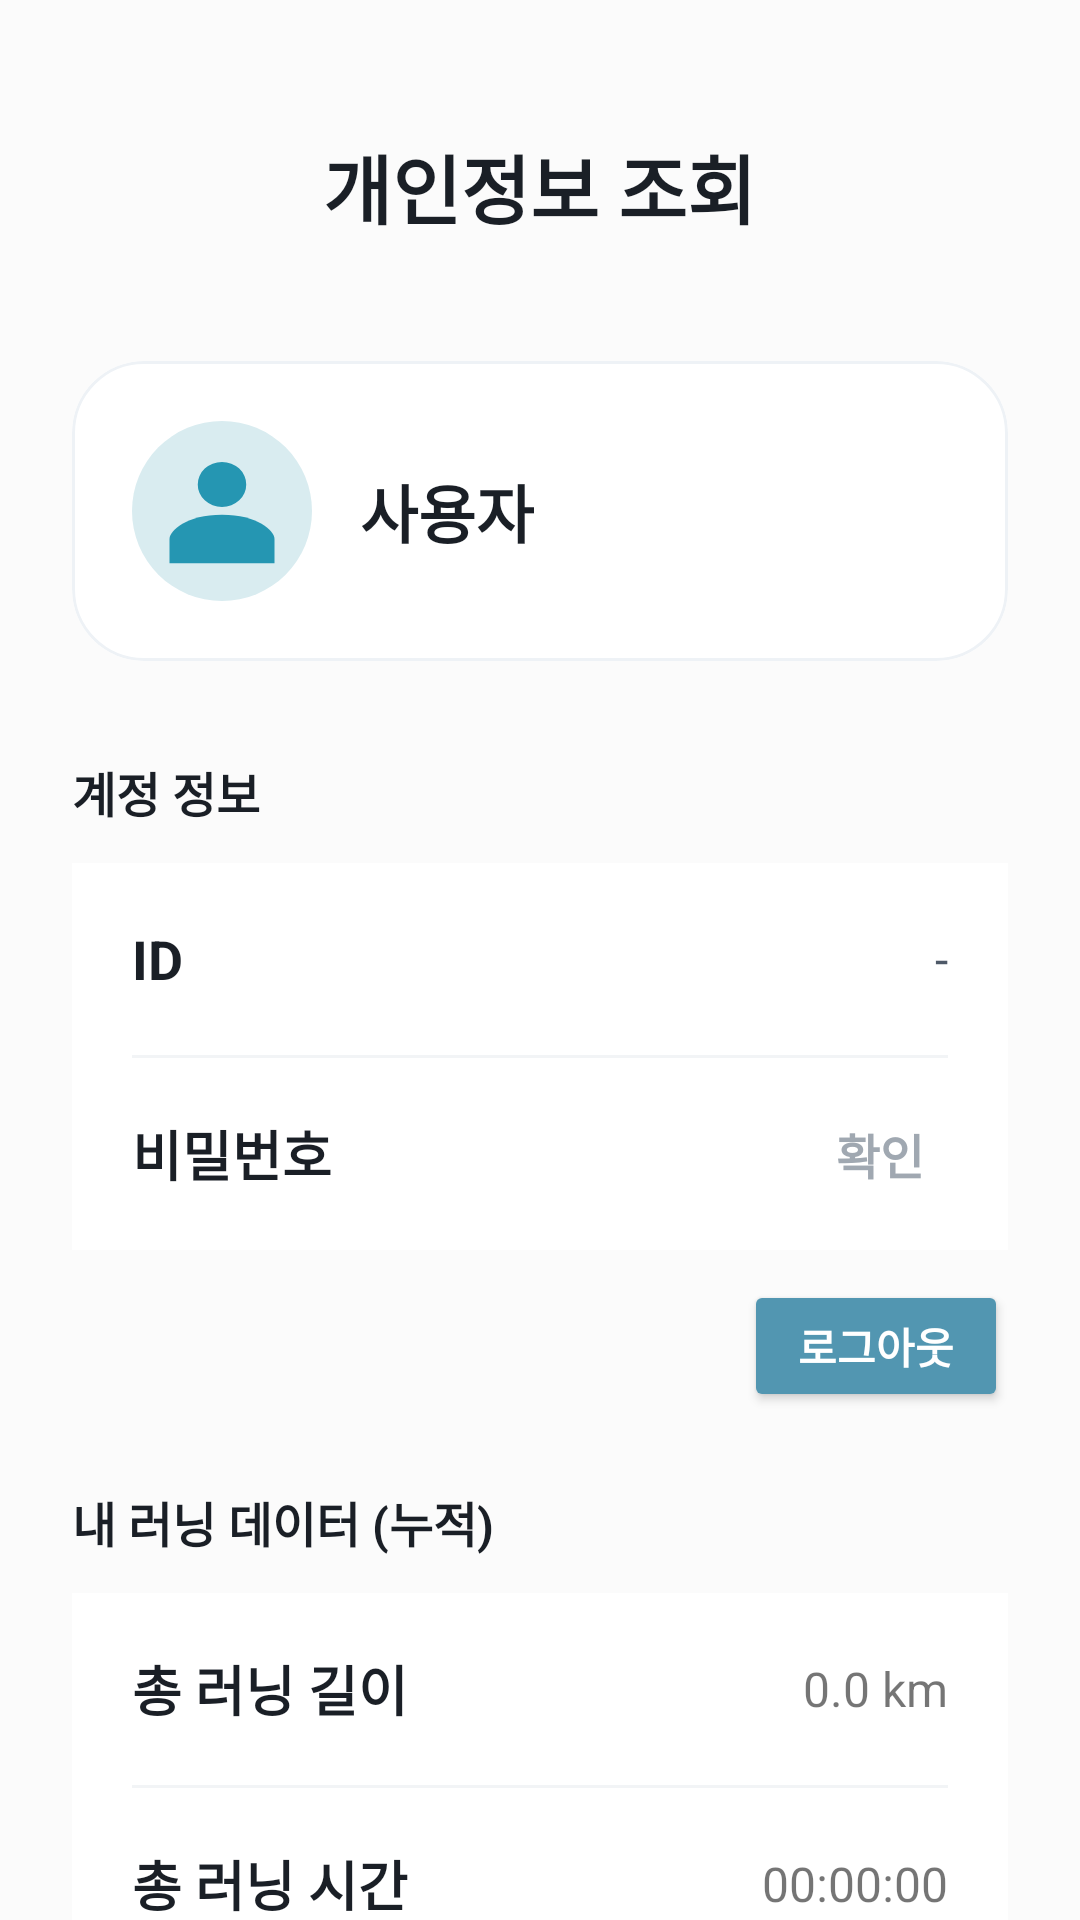

Point at icon controls on the screen. Image size 1080*1920, points as (x=x, y=y).
user: (x=222, y=511)
